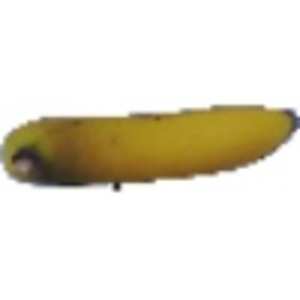banana: (1, 101, 297, 192)
